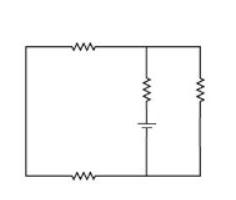resistor: (61, 162, 104, 187), (63, 35, 106, 58), (134, 68, 159, 107), (188, 70, 212, 107)
